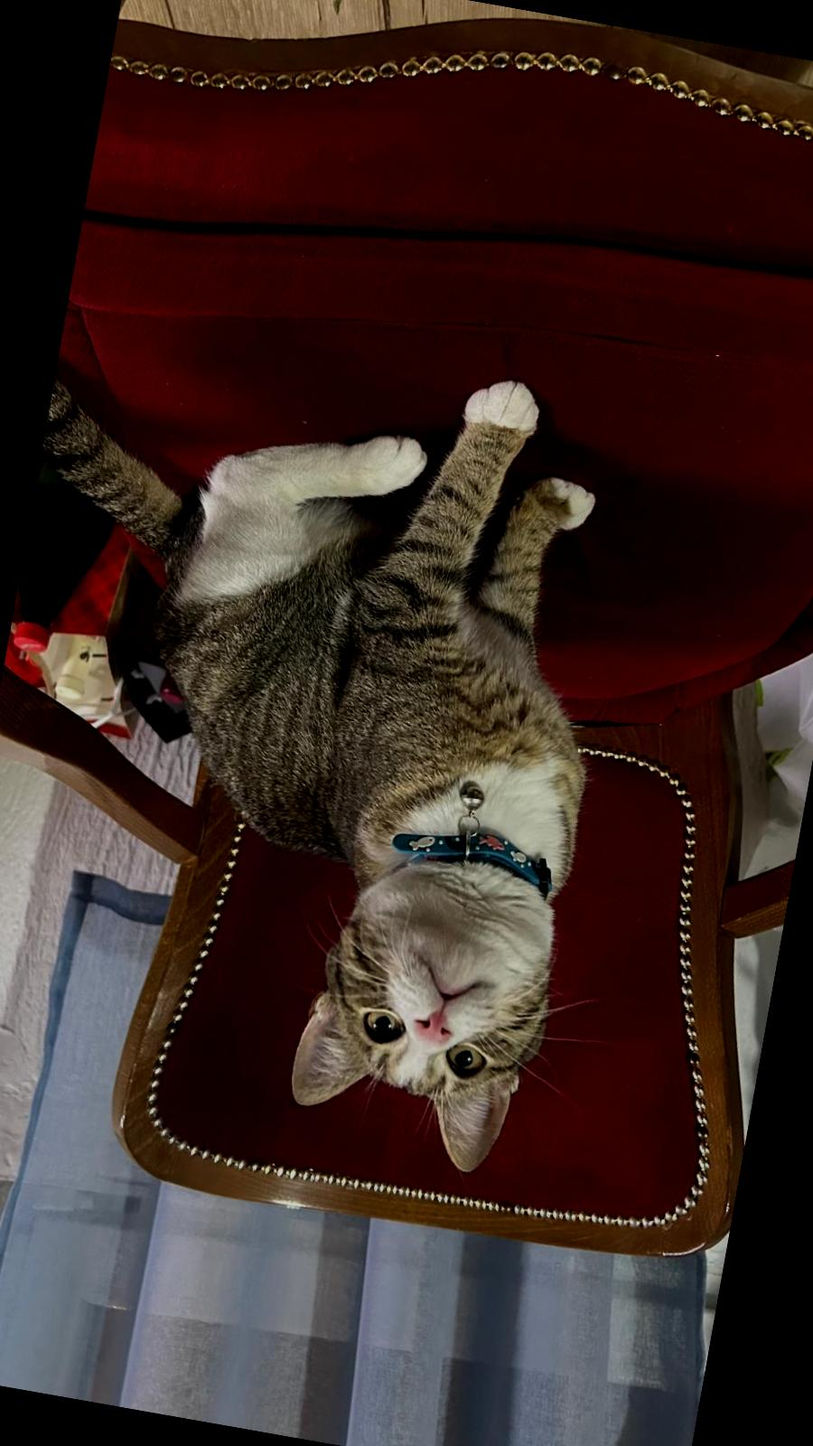macka: (0, 302, 663, 1185)
